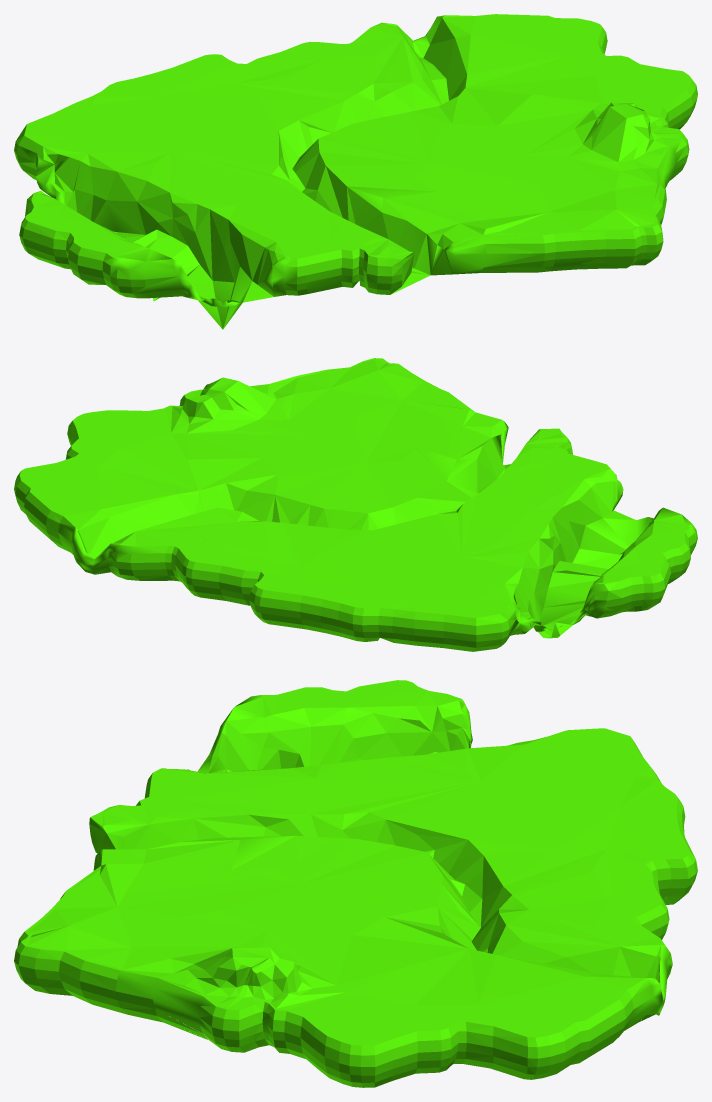
File: TESTMap-v0.2.2.glb
3 views of the same model, one above another, from view 1: azimuth 30°, elevation 25°; view 2: azimuth 150°, elevation 25°; view 3: azimuth 270°, elevation 25° (orthographic). The views are drawn at different scales.
Parts seen in each view (by area): view 1: 0_SM_FloatingIsland_S2_26_StaticMeshComponent0; view 2: 0_SM_FloatingIsland_S2_26_StaticMeshComponent0; view 3: 0_SM_FloatingIsland_S2_26_StaticMeshComponent0.
Part boxes in pixels (x1,y1,x2,y2): 0_SM_FloatingIsland_S2_26_StaticMeshComponent0: (14, 14, 697, 329); 0_SM_FloatingIsland_S2_26_StaticMeshComponent0: (14, 358, 697, 651); 0_SM_FloatingIsland_S2_26_StaticMeshComponent0: (14, 680, 697, 1087).
Size of the model in its own units: 527 by 76.1 by 410.
